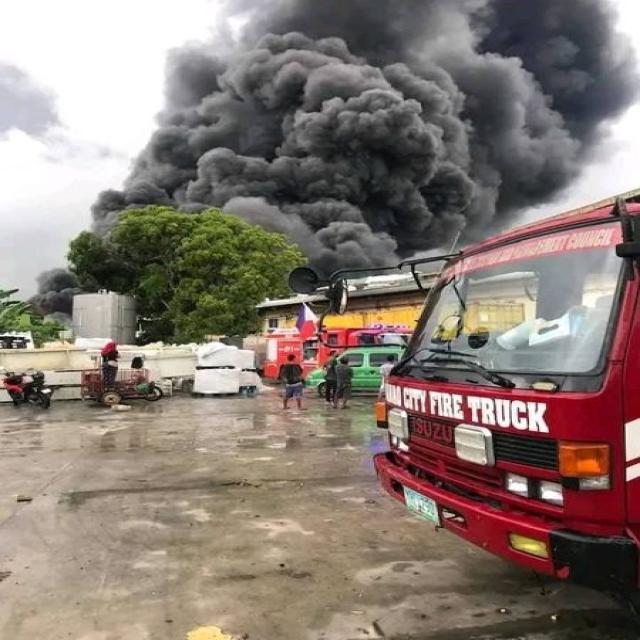Smoke: (69, 0, 626, 270), (30, 270, 98, 319)
